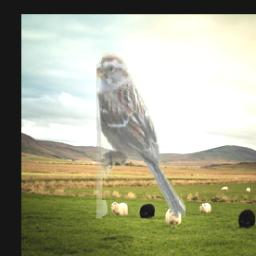Sparrow: (96, 53, 186, 219)
